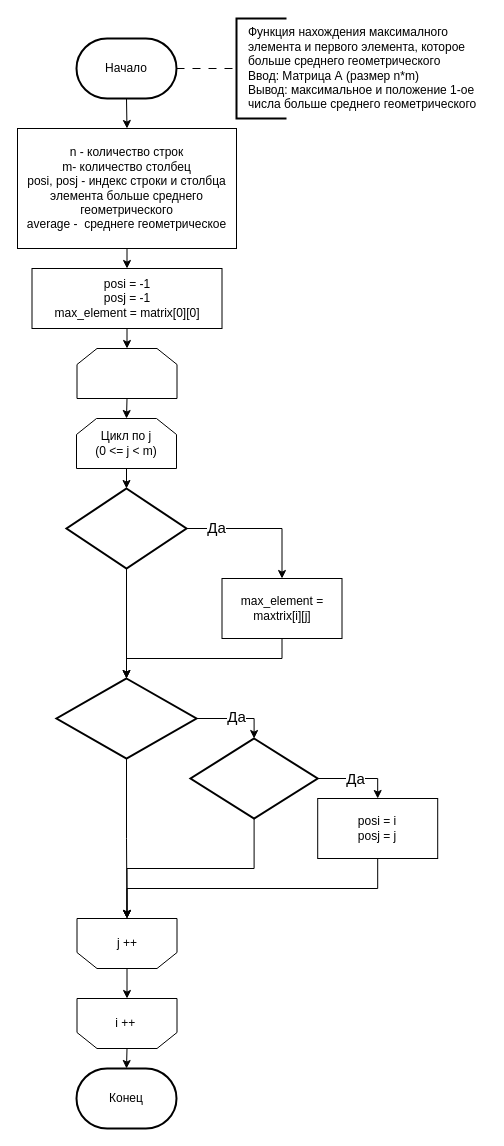
Image size: 504x1146. Some labels were removed from this diagram. Each missing label, with the centre of its shape:
matrix[i][j] > average: point (126, 718)
matrix[i][j] > max_element: point (126, 528)
posi == -1 or matrix[posi][posj] > matrix[i][j]: point (253, 778)
Цикл по i (0 <= i < n): point (126, 373)
